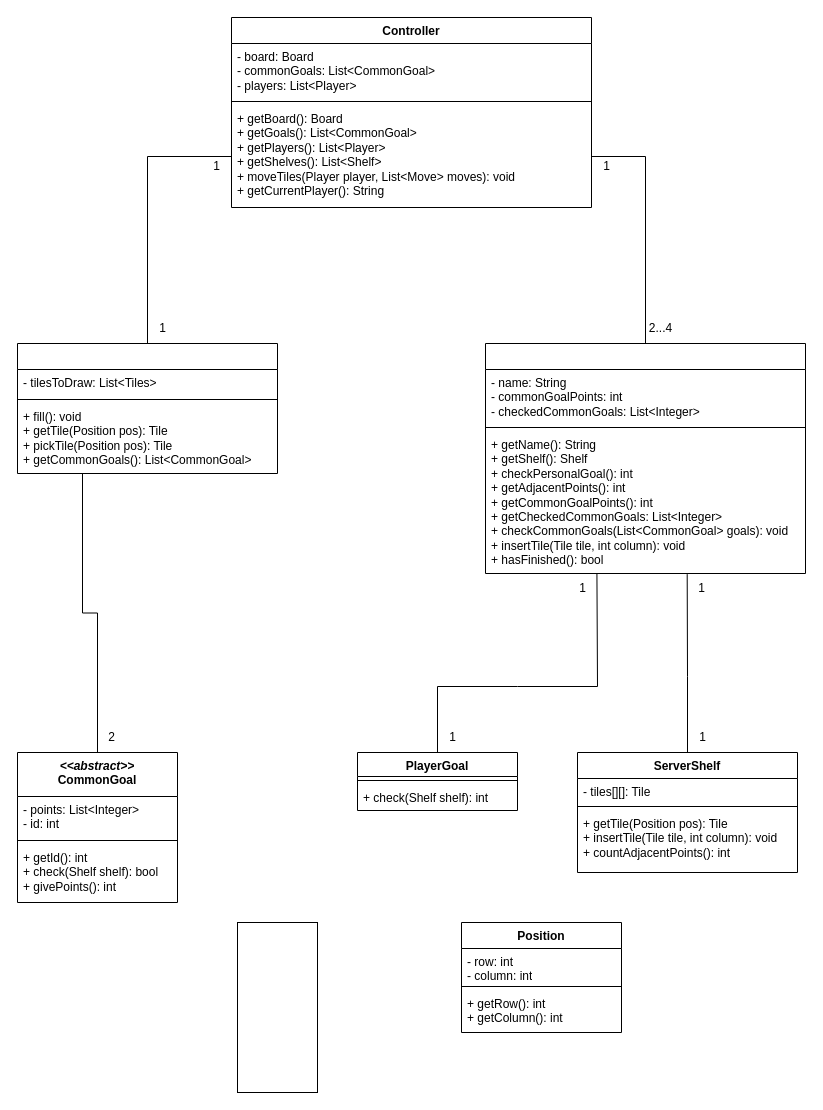
This 823x1110 diagram has some shape labels left out. Here are the shapes that lost their labels. From the top down, the box of each, then its label:
(16, 342, 278, 474): ServerBoard
(484, 342, 806, 574): Player
(236, 922, 318, 1092): <<enum>> Tile Cat Book Game Frame Trophie Plant Empty Invalid
